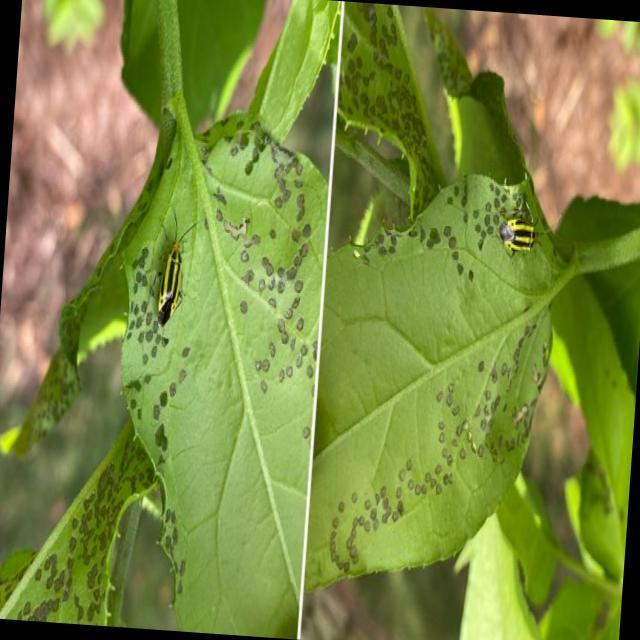Bacterial Spot: (312, 298, 553, 588), (194, 127, 330, 403), (0, 427, 160, 628)
